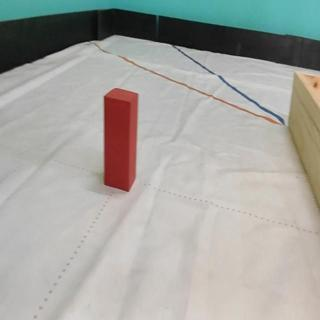redbox: (103, 85, 138, 192)
